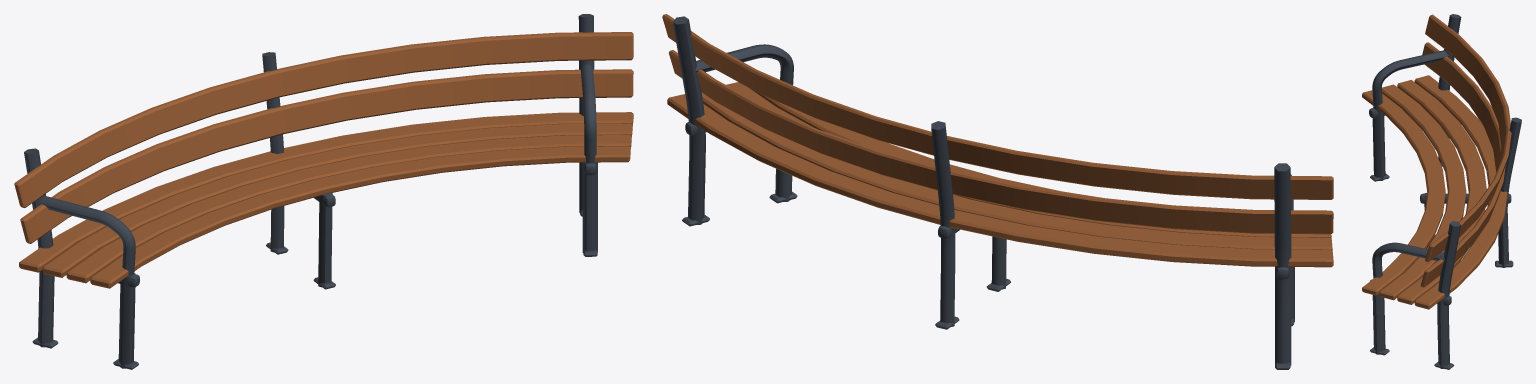
Rendered from banco_curvo.glb.
3 renders of one model, left to right at view 1: azimuth 30°, elevation 25°; view 2: azimuth 150°, elevation 25°; view 3: azimuth 270°, elevation 25°, orthographic. The views are drawn at different scales.
Parts seen in each view (by area): view 1: banco_curvo; view 2: banco_curvo; view 3: banco_curvo.
Part boxes in pixels (x1,y1,x2,y2): banco_curvo: [14, 14, 633, 369]; banco_curvo: [662, 14, 1333, 369]; banco_curvo: [1362, 14, 1521, 369].
Bounding box in the file's own units: 3 × 0.8855 × 0.8751.
1 material, 1 textured.
